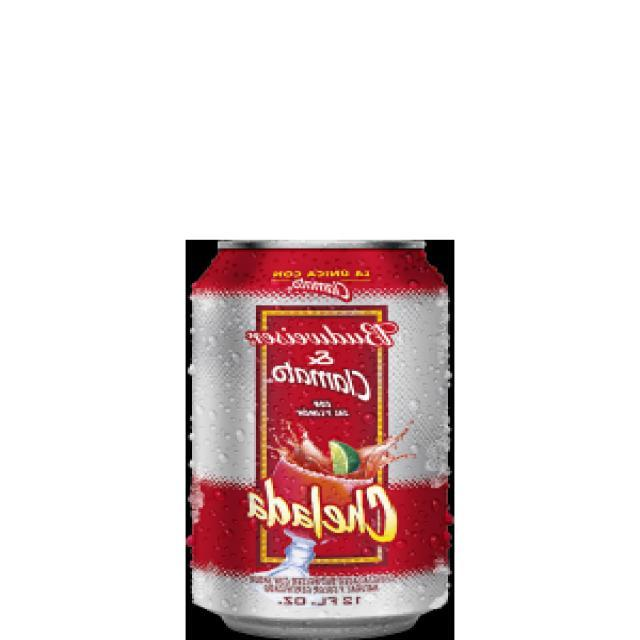can: (167, 223, 480, 640)
